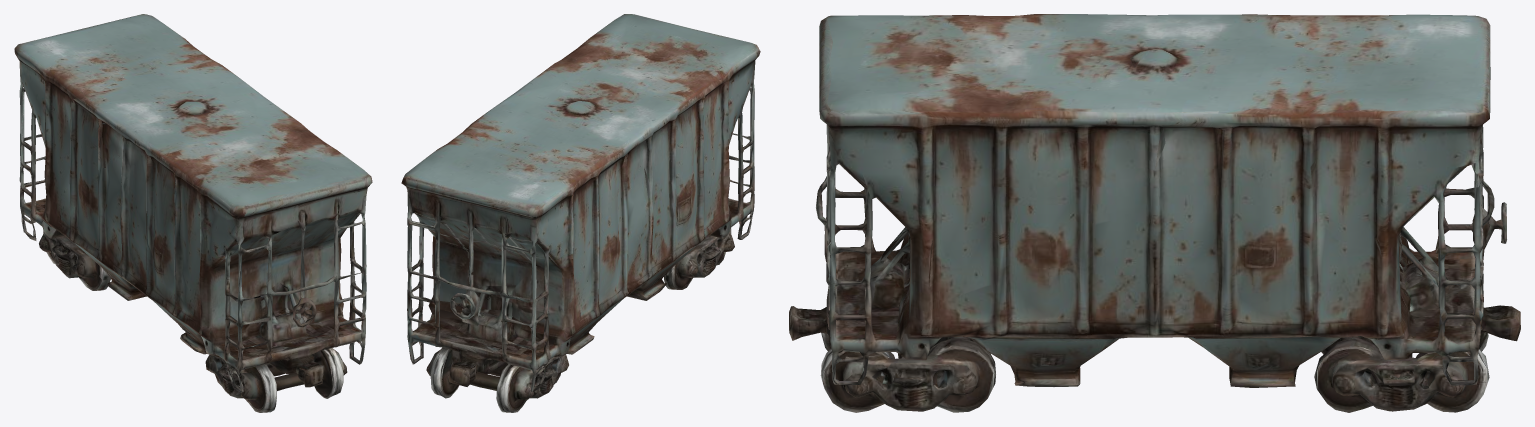
File: m-hopx.glb
3 renders of one model, left to right at view 1: azimuth 30°, elevation 25°; view 2: azimuth 150°, elevation 25°; view 3: azimuth 270°, elevation 25°, orthographic. The views are drawn at different scales.
Visible parts, largest first — view 1: Mesh0; view 2: Mesh0; view 3: Mesh0.
Boxes of the visible parts, x1=… form: Mesh0: x1=14, y1=14, x2=372, y2=412; Mesh0: x1=401, y1=14, x2=760, y2=412; Mesh0: x1=789, y1=14, x2=1520, y2=412.
Size of the model in its own units: 0.6398 by 0.9653 by 1.91.
1 material, 1 textured.
